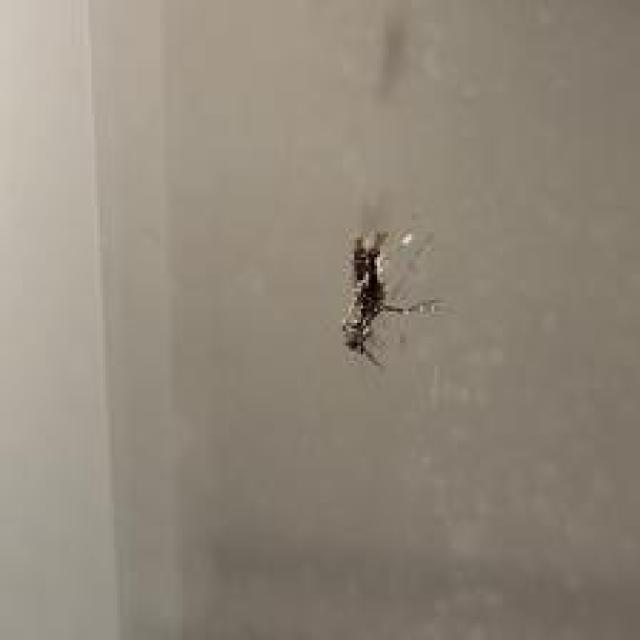Aedes albopictus: (339, 227, 444, 367)
